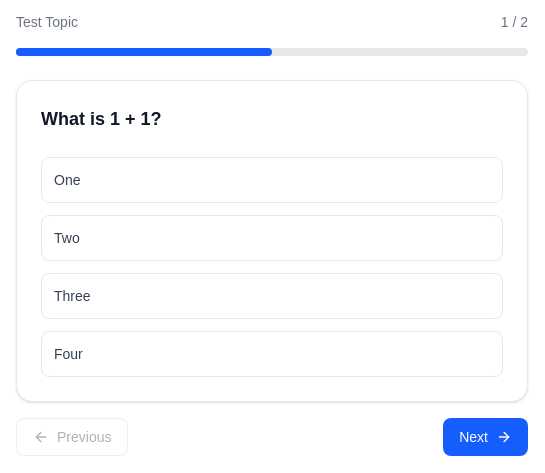
QuizRunner › disables submit when not all questions are answered
Click the button "Two" at (67, 238), box [41,215,503,261]
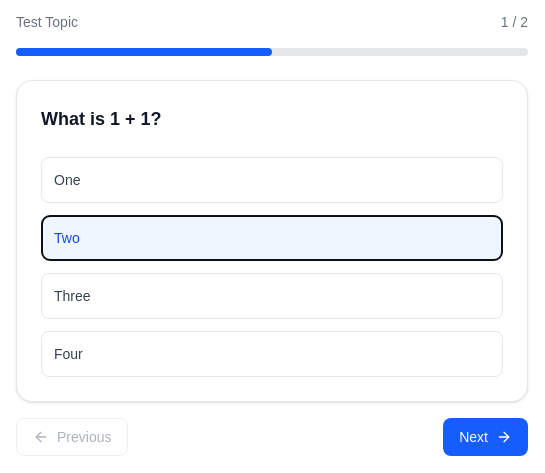
Click the button "Next" at (486, 437), box [443,418,528,456]
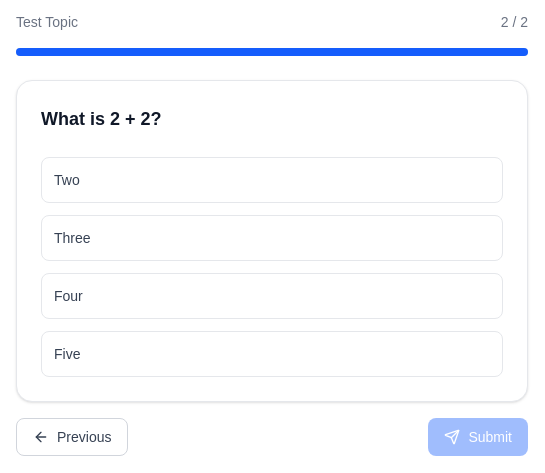
Expected: the button "Submit" is disabled, [428,418,528,456]
